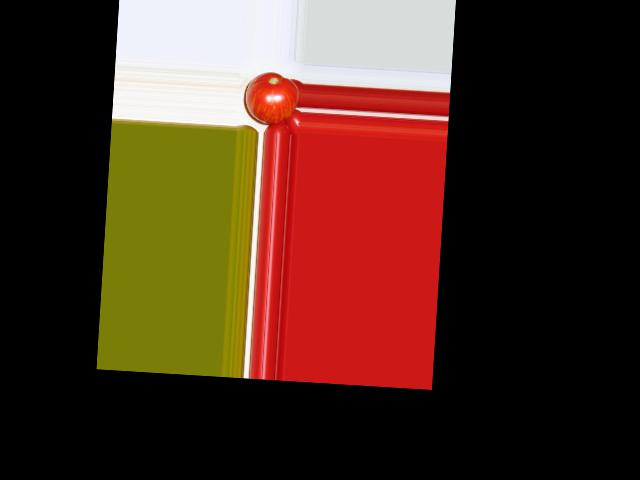tomato: (243, 70, 300, 126)
